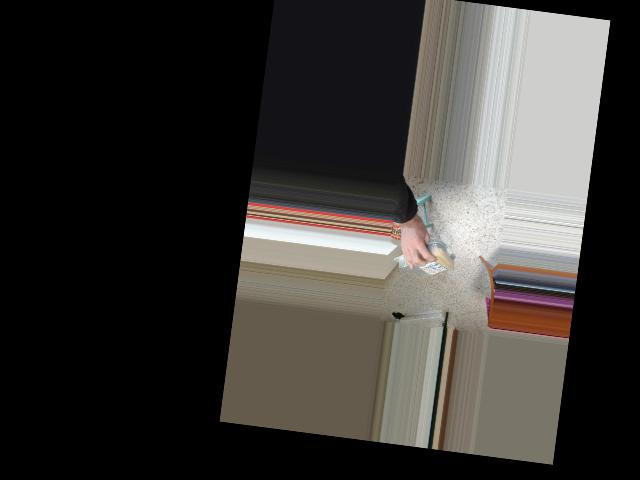cheese: (392, 241, 456, 279)
